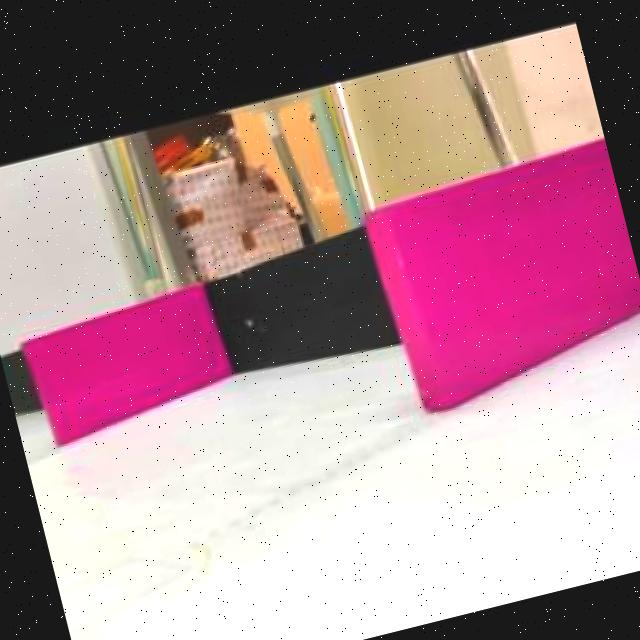xparking: (374, 148, 640, 390), (22, 294, 227, 439)
